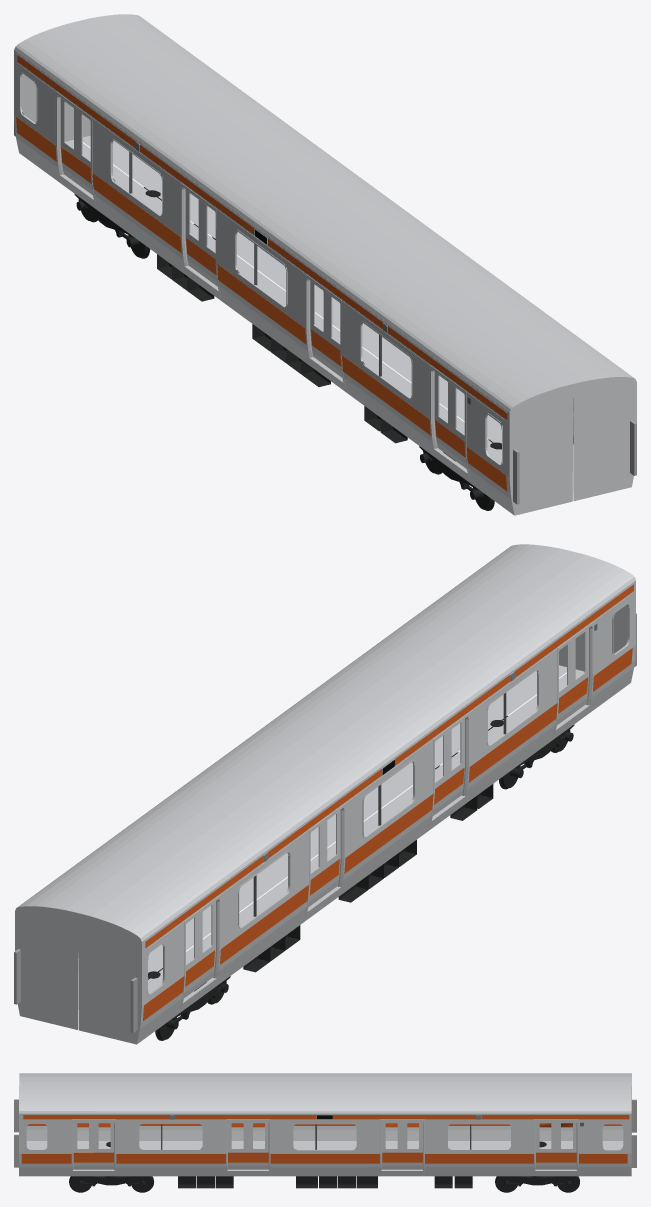
File: ReMake_train.glb
3 views of the same model, one above another, from view 1: azimuth 30°, elevation 25°; view 2: azimuth 150°, elevation 25°; view 3: azimuth 270°, elevation 25° (orthographic). The views are drawn at different scales.
Visible parts, largest first — view 1: 小窓くり抜き.001, 小窓くり抜き.010; view 2: 小窓くり抜き.001, 小窓くり抜き.010; view 3: 小窓くり抜き.010, 小窓くり抜き.001.
Part boxes in pixels (x1=…): 小窓くり抜き.001: x1=14, y1=21, x2=573, y2=515; 小窓くり抜き.010: x1=78, y1=14, x2=636, y2=501; 小窓くり抜き.001: x1=78, y1=551, x2=636, y2=1044; 小窓くり抜き.010: x1=14, y1=544, x2=572, y2=1029; 小窓くり抜き.010: x1=14, y1=1086, x2=636, y2=1192; 小窓くり抜き.001: x1=14, y1=1073, x2=636, y2=1149.
Size of the model in its own units: 2.06 by 2.33 by 13.83.
